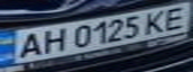0: (69, 21, 93, 48)
1: (90, 18, 112, 46)
2: (106, 16, 127, 43)
5: (121, 12, 148, 39)
A: (9, 29, 48, 60)
E: (157, 3, 193, 32)
H: (36, 26, 69, 54)
K: (139, 8, 172, 35)
